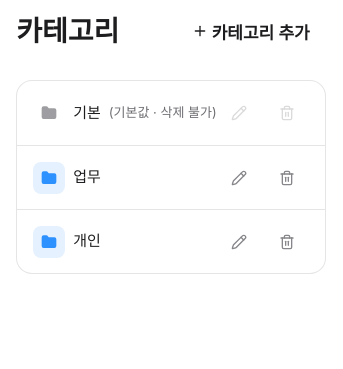
Scenario: CategoriesPage › 수정 버튼 클릭 시 인라인 편집 폼이 표시되고 기존 값이 입력된다
Expected: the text "업무" is shown, [73,166,101,189]
What coordinates should you click on to do the following:
click the button named "수정"
I would click on:
 (239, 178)
Its box is [217,156,261,200].
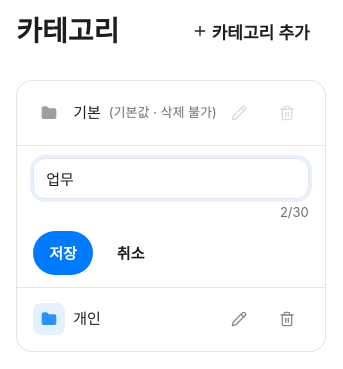
Expected: the field holds "업무", [33,158,309,199]
